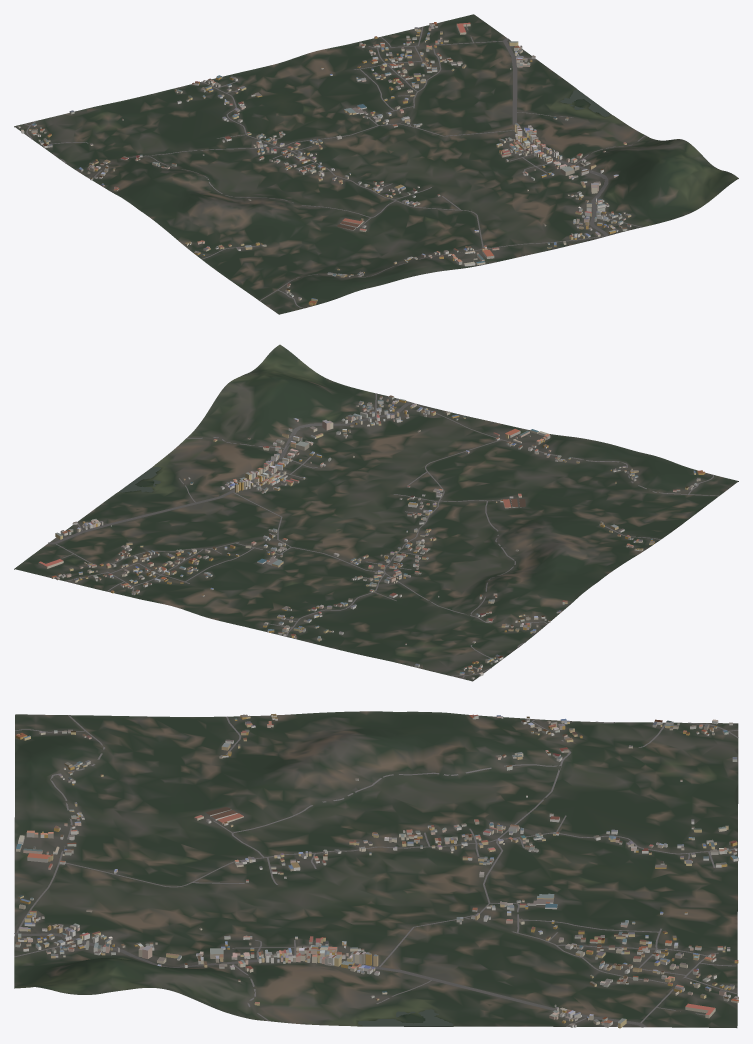
3 renders of one model, top to bottom at view 1: azimuth 30°, elevation 25°; view 2: azimuth 150°, elevation 25°; view 3: azimuth 270°, elevation 25°, orthographic. The views are drawn at different scales.
Visible parts, largest first — view 1: ground, buildings, roads; view 2: ground, buildings, roads; view 3: ground, buildings, roads, water.
Boxes of the visible parts, box(x1,y1,x2,y2) form: ground: box(14, 14, 738, 314); buildings: box(17, 22, 631, 305); roads: box(24, 26, 645, 308); ground: box(14, 344, 738, 681); buildings: box(38, 395, 705, 679); roads: box(48, 393, 718, 678); ground: box(14, 711, 738, 1027); buildings: box(15, 714, 738, 1028); roads: box(14, 715, 738, 1027); water: box(358, 1009, 453, 1026).
Size of the model in its own units: 1410 by 98.6 by 1405.
